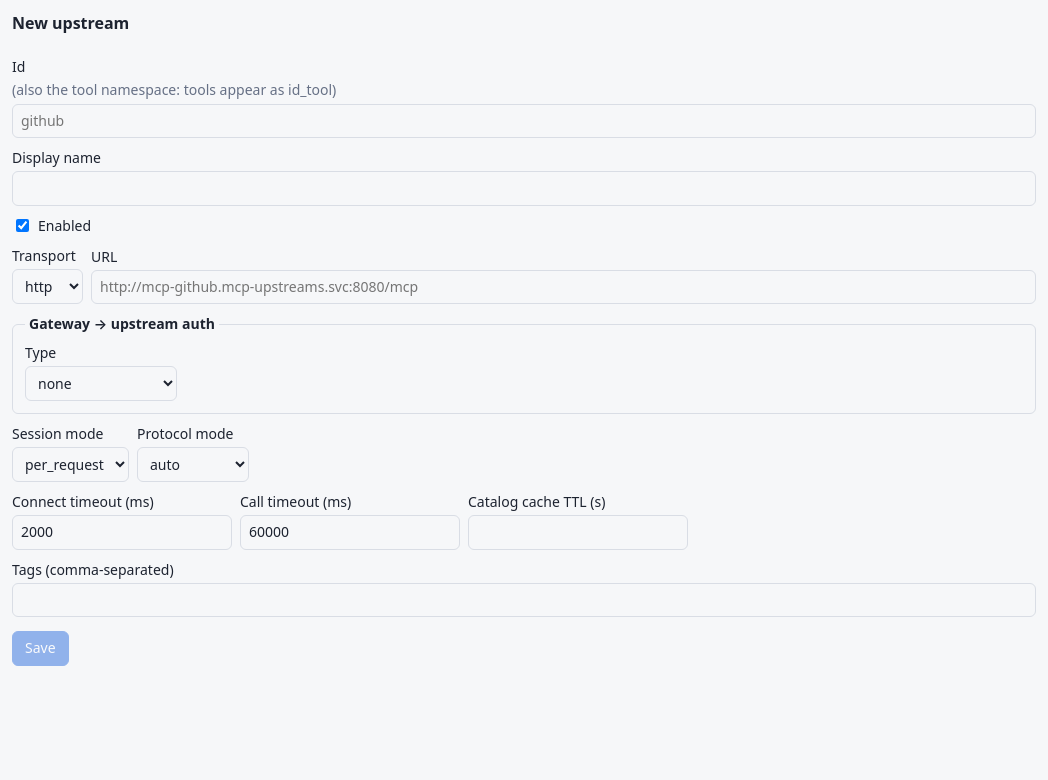
Test case: UpstreamForm › switching to stdio asks for a command and drops the url
Select "stdio" in the dropdown labelled "Transport" at (48, 287), box [12,269,83,304]
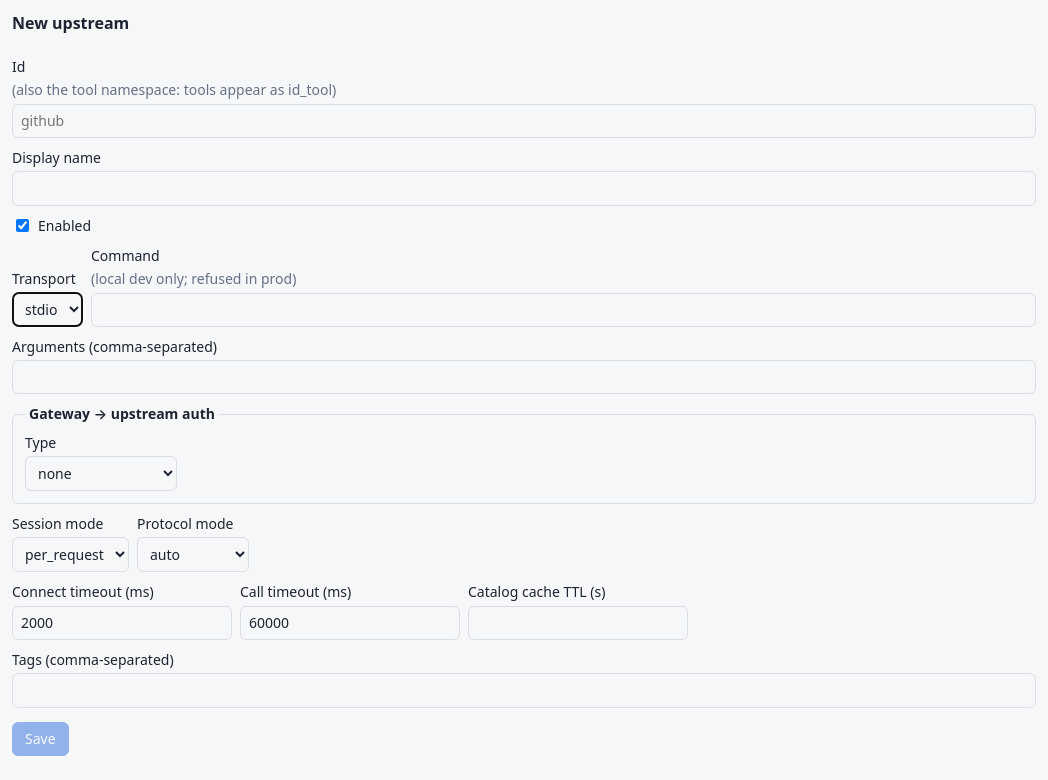
Expected: the field labelled "Command (local dev only; refused in prod)" is shown, [91,293,1036,327]
Now the label labelled "URL" is gone
